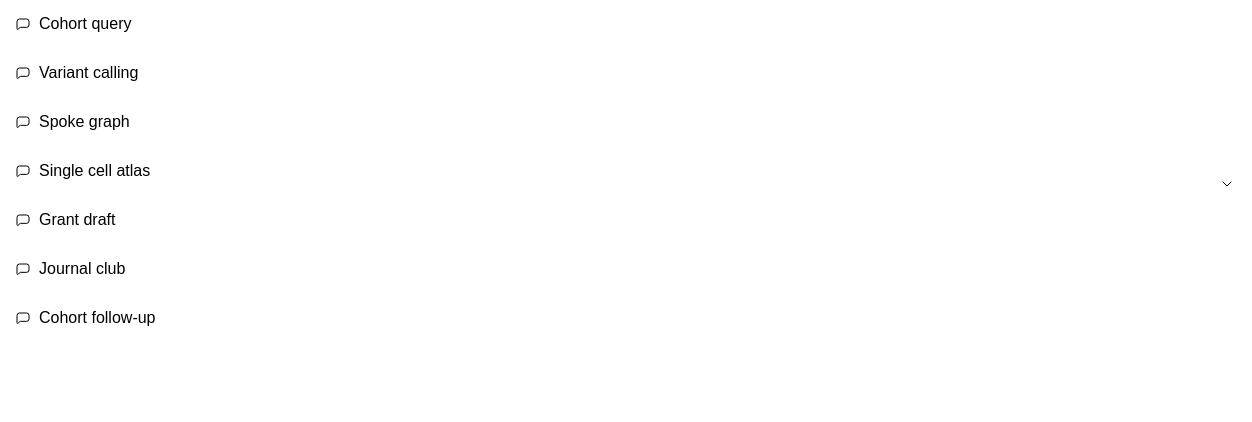
Test case: the tab overflow menu filter › has no filter below eight tabs
The image size is (1252, 422).
Press the mouse on the button with test id "chat-tab-overflow-trigger" at (1227, 184), box left=1219, top=176, right=1235, bottom=192
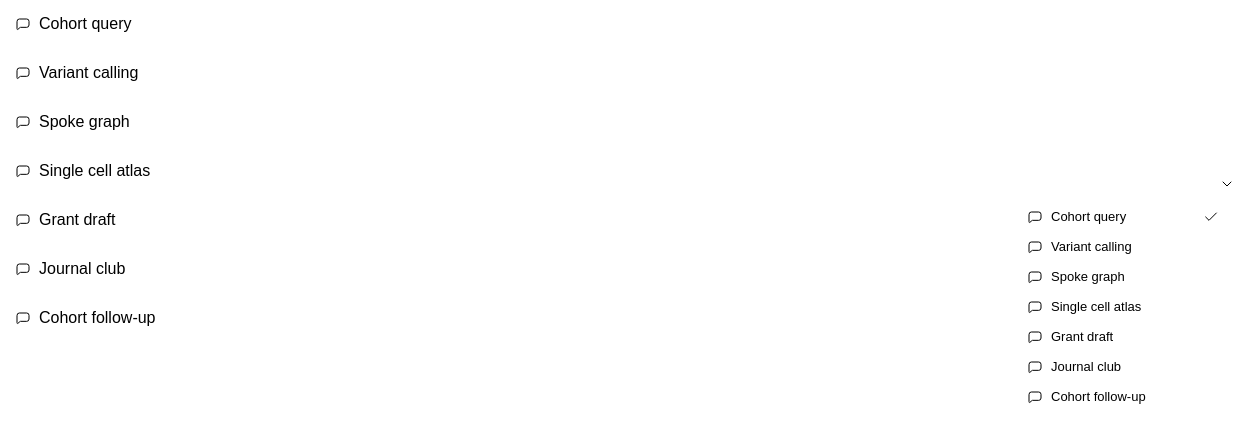
Check: the number of menu items is 7
